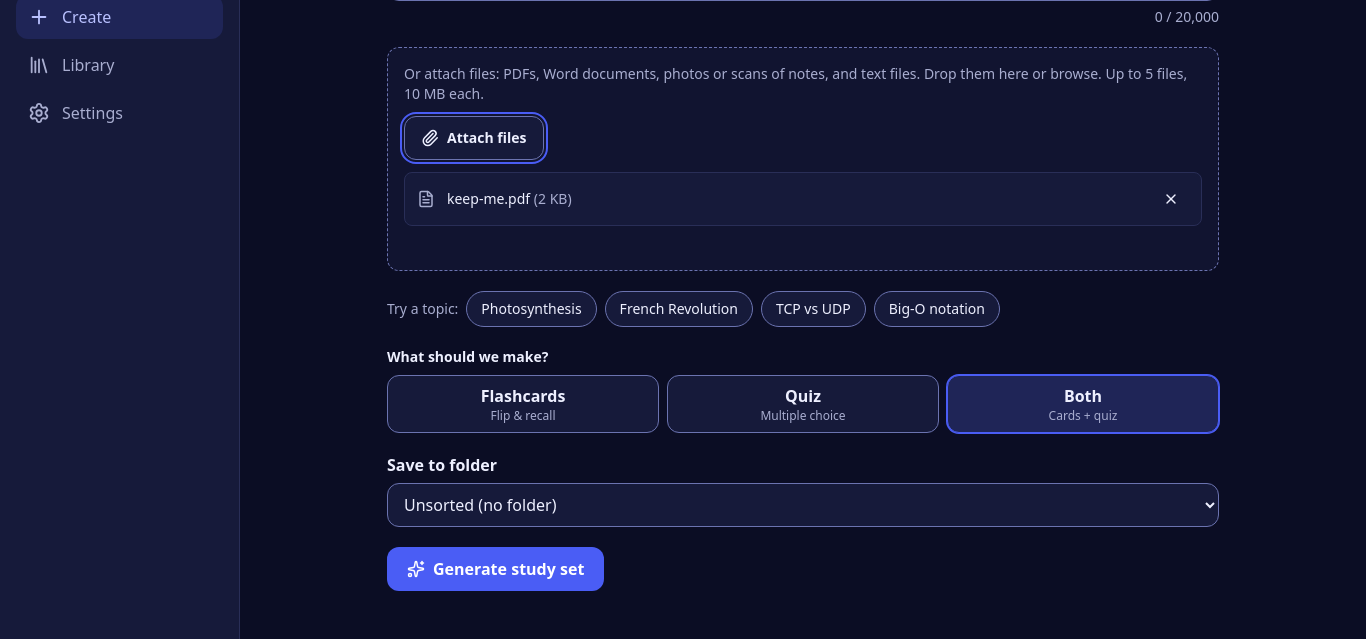
Test: file attachments in the input form › keeps the files when a request fails and sends them again on Retry
Earlier steps of the test are not shown.
(page scrolled)
Click the button "Generate study set": point(496, 569) [387,547,604,591]
(page scrolled)
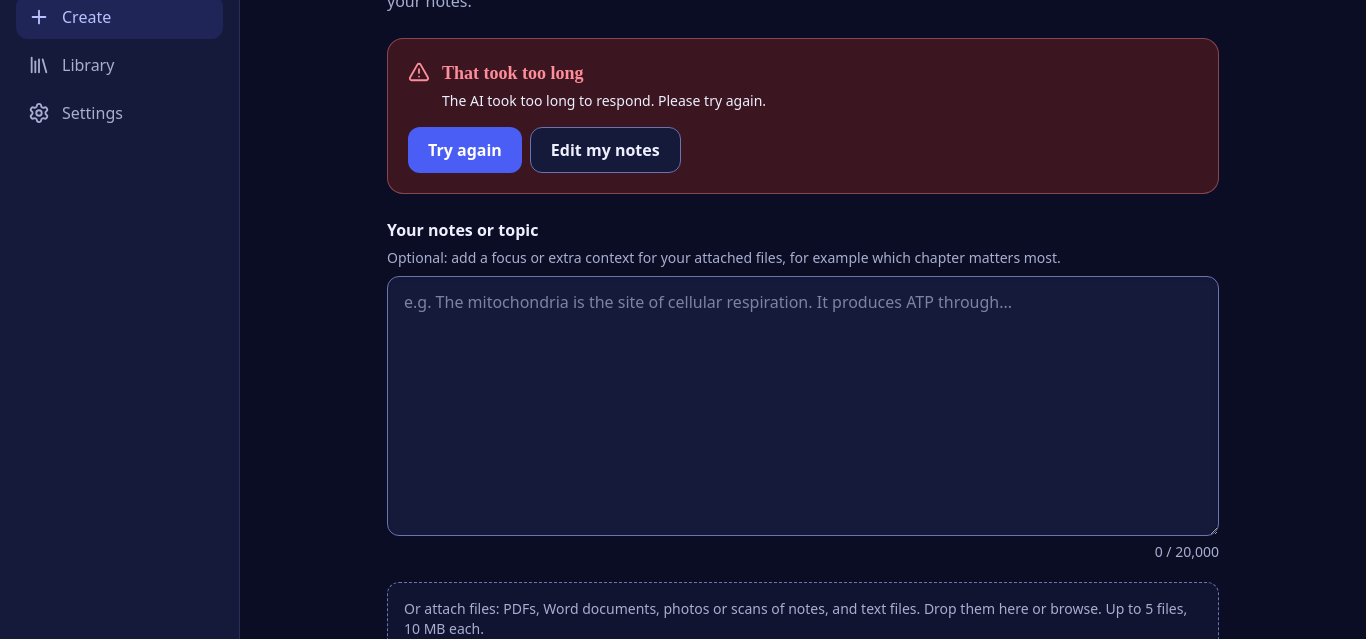
Click the button "Try again": point(465, 150) [408,127,522,173]
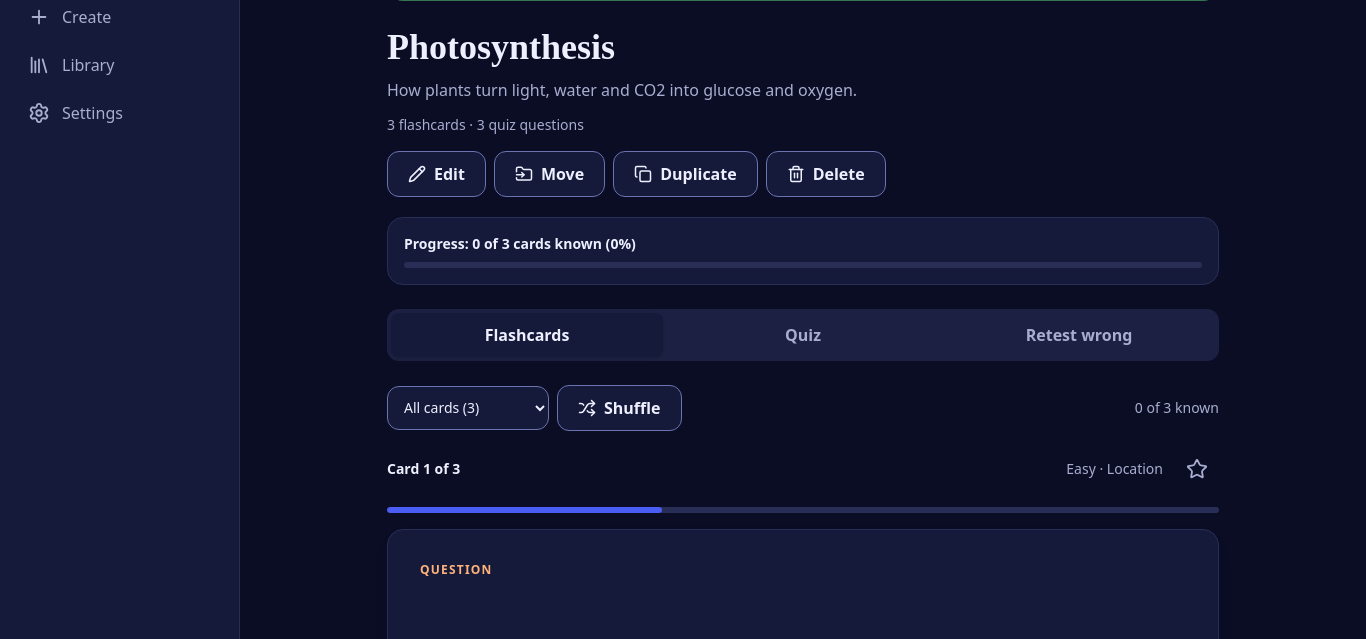
Now the heading "Photosynthesis" is shown, box [387,27,615,67]
